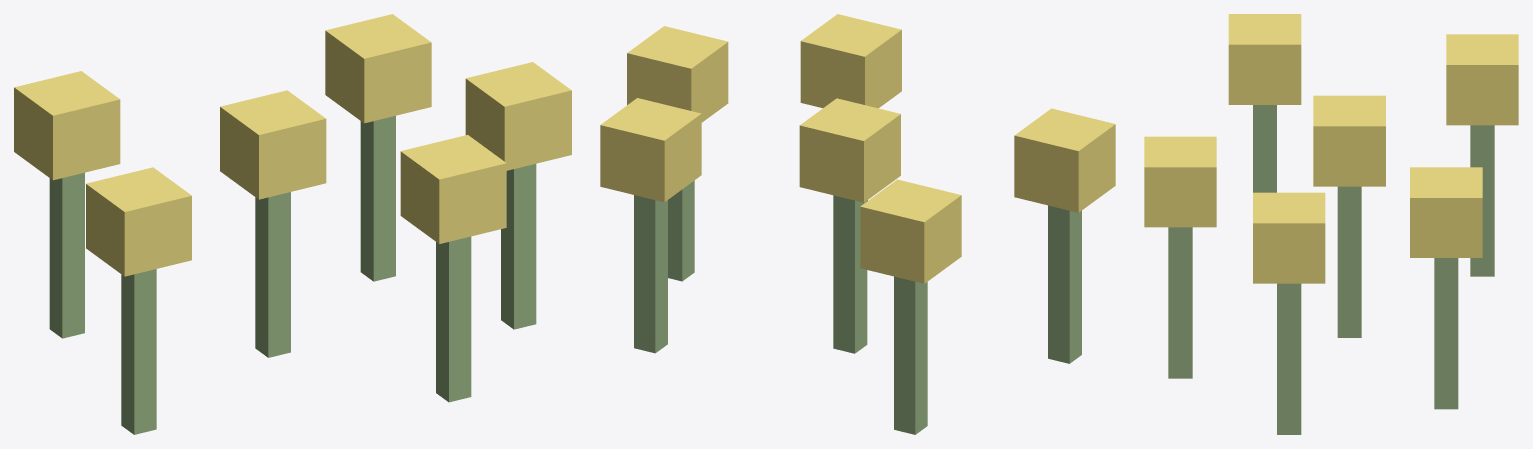
The model's file is prop_daffodils.glb.
The picture shows the model from 3 angles, left to right: view 1: azimuth 30°, elevation 25°; view 2: azimuth 150°, elevation 25°; view 3: azimuth 270°, elevation 25°; orthographic projection. The views are drawn at different scales.
Visible parts, largest first — view 1: prop_daffodils; view 2: prop_daffodils; view 3: prop_daffodils.
Part boxes in pixels (left/top/right/bottom): prop_daffodils: left=14, top=14, right=571, bottom=434; prop_daffodils: left=600, top=14, right=1115, bottom=434; prop_daffodils: left=1144, top=14, right=1518, bottom=434.
Bounding box in the file's own units: 0.082 × 0.0405 × 0.062.
